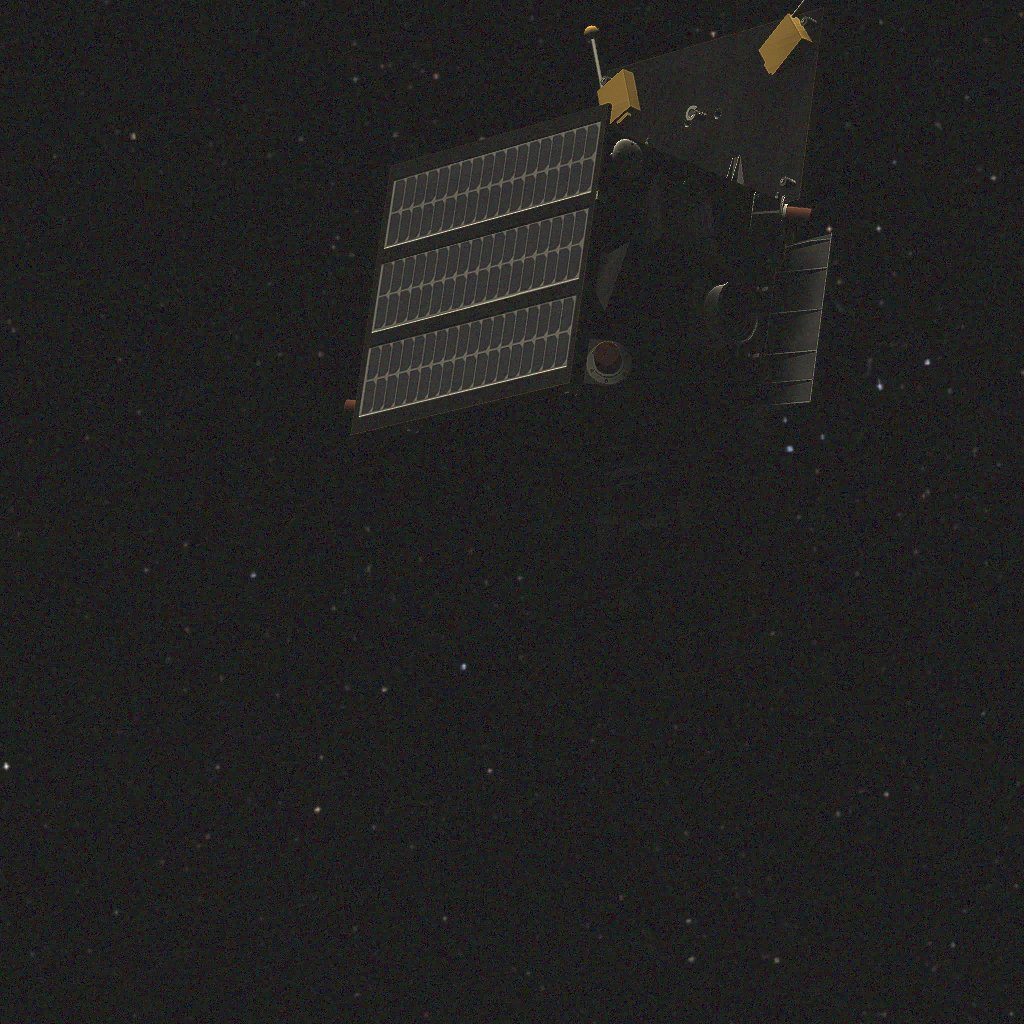proba_2: (344, 0, 835, 706)
